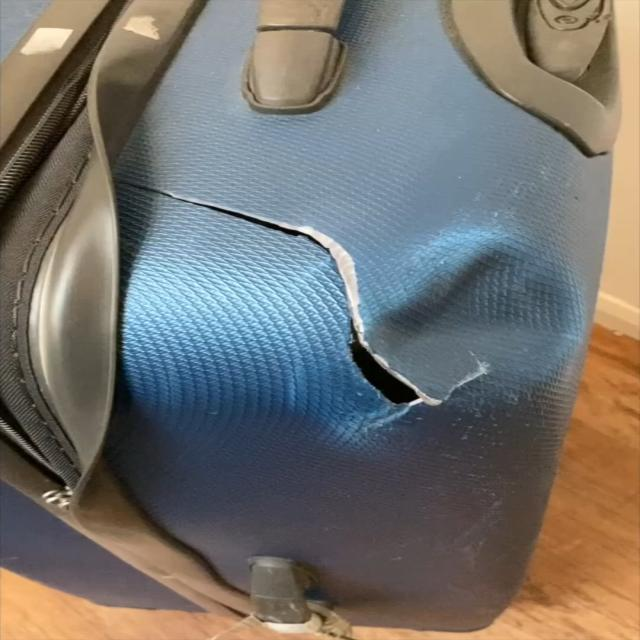Damage-bag: (131, 181, 587, 406), (2, 92, 120, 488), (373, 409, 404, 424)
